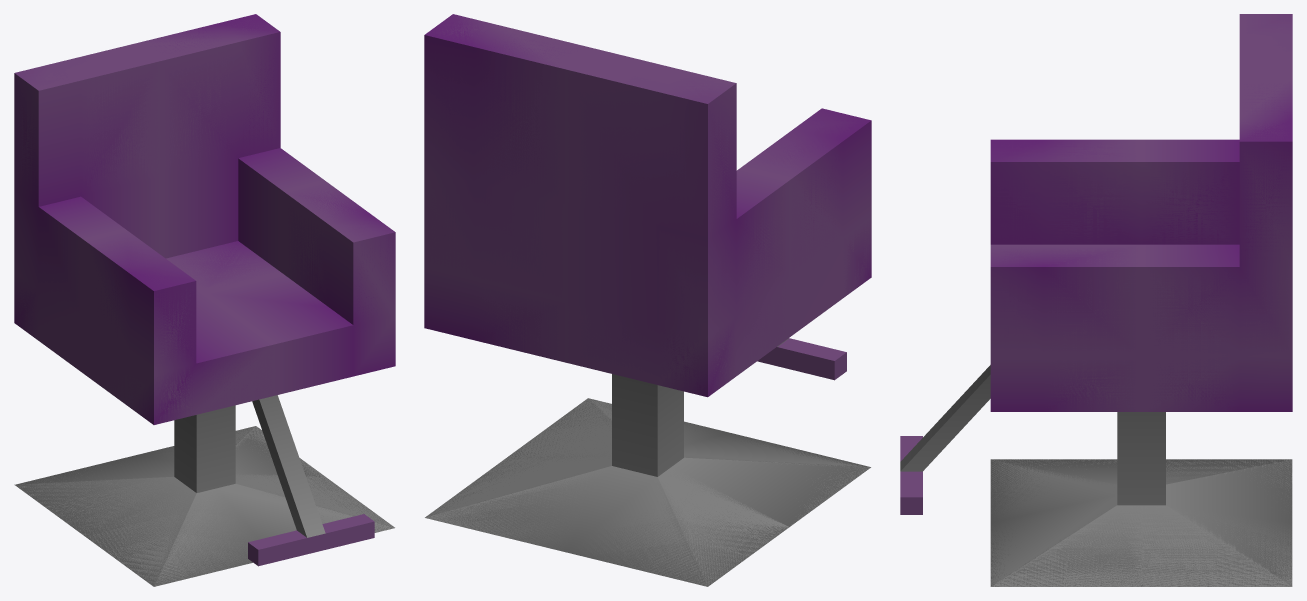
File: chair.fbx
3 renders of one model, left to right at view 1: azimuth 30°, elevation 25°; view 2: azimuth 150°, elevation 25°; view 3: azimuth 270°, elevation 25°, orthographic. The views are drawn at different scales.
Parts seen in each view (by area): view 1: Chair; view 2: Chair; view 3: Chair.
Part boxes in pixels (bbox=[...]): Chair: bbox=[14, 14, 395, 586]; Chair: bbox=[424, 14, 871, 586]; Chair: bbox=[900, 14, 1292, 586].
Size of the model in its own units: 0.5008 by 0.8152 by 0.6503.
